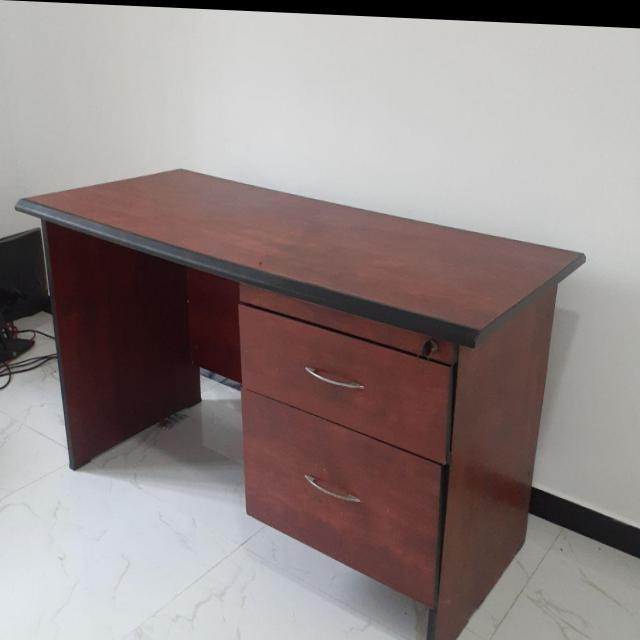Table: (4, 143, 603, 640)
